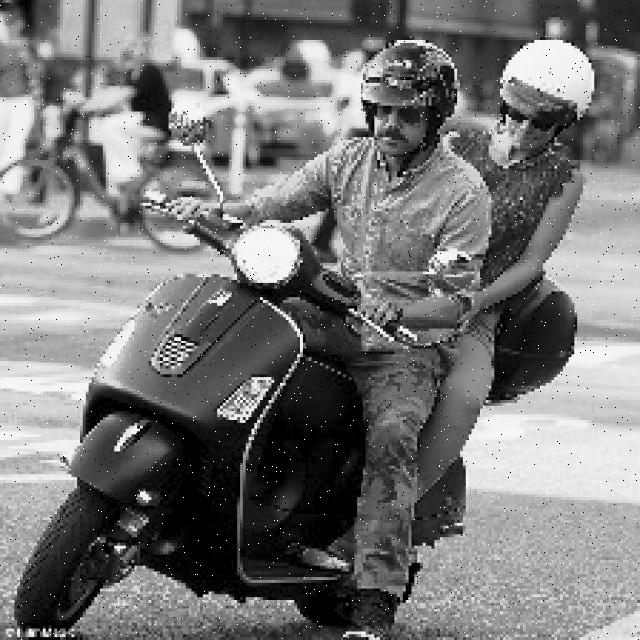Bike: (32, 243, 354, 639)
